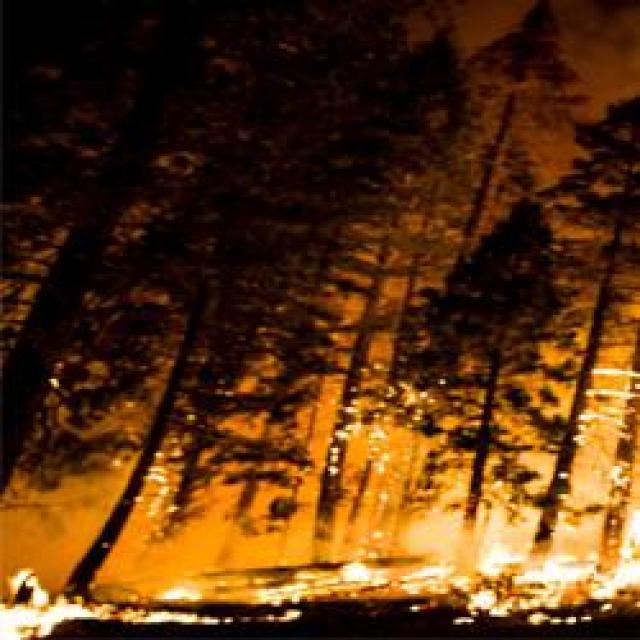Fire: (24, 543, 640, 639)
Smoke: (27, 184, 618, 575)
